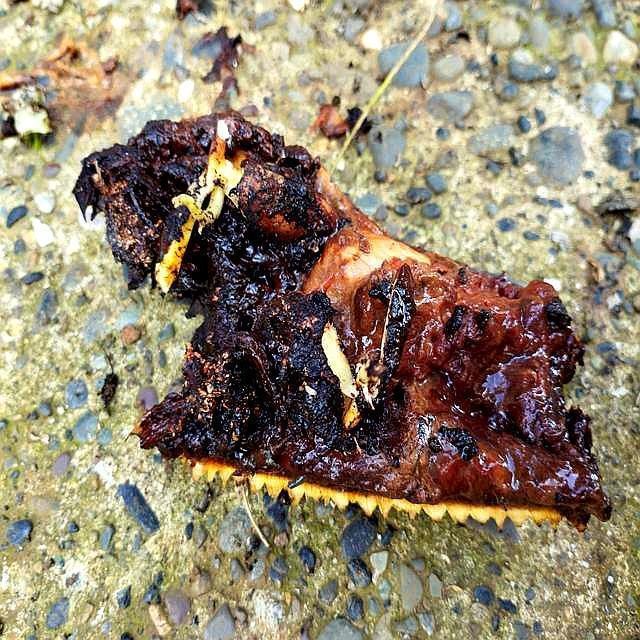Biodegradable: (77, 125, 605, 539)
